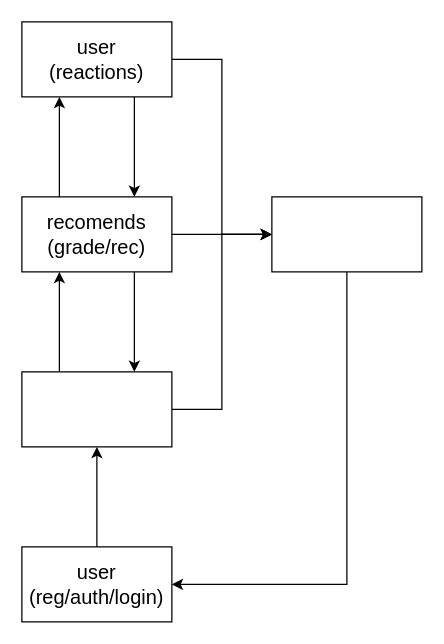
Some shapes in this 444 by 644 pixel diagram are drawn without their labels. Each missing label, with the centre of its shape:
"pet (add/del/edit)" belongs at (x=96, y=409).
"user (logout)" belongs at (x=346, y=234).
